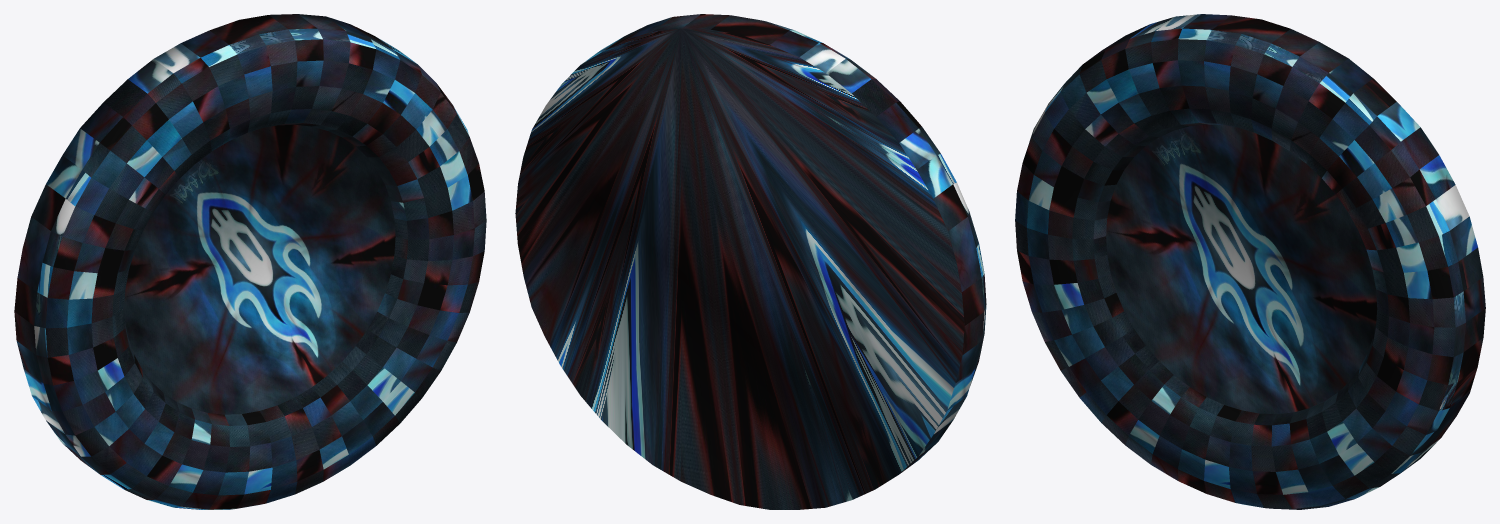
Rendered from rondelleF2.obj.
The picture shows the model from 3 angles, left to right: view 1: azimuth 30°, elevation 25°; view 2: azimuth 150°, elevation 25°; view 3: azimuth 330°, elevation 25°; orthographic projection.
Visible parts, largest first — view 1: Torus; view 2: Torus; view 3: Torus.
Part boxes in pixels (<box>): Torus: <box>14,14,486,509</box>; Torus: <box>515,14,986,509</box>; Torus: <box>1015,14,1485,509</box>.
Bounding box in the file's own units: 2.49 × 2.49 × 0.3192.
1 material, 1 textured.
